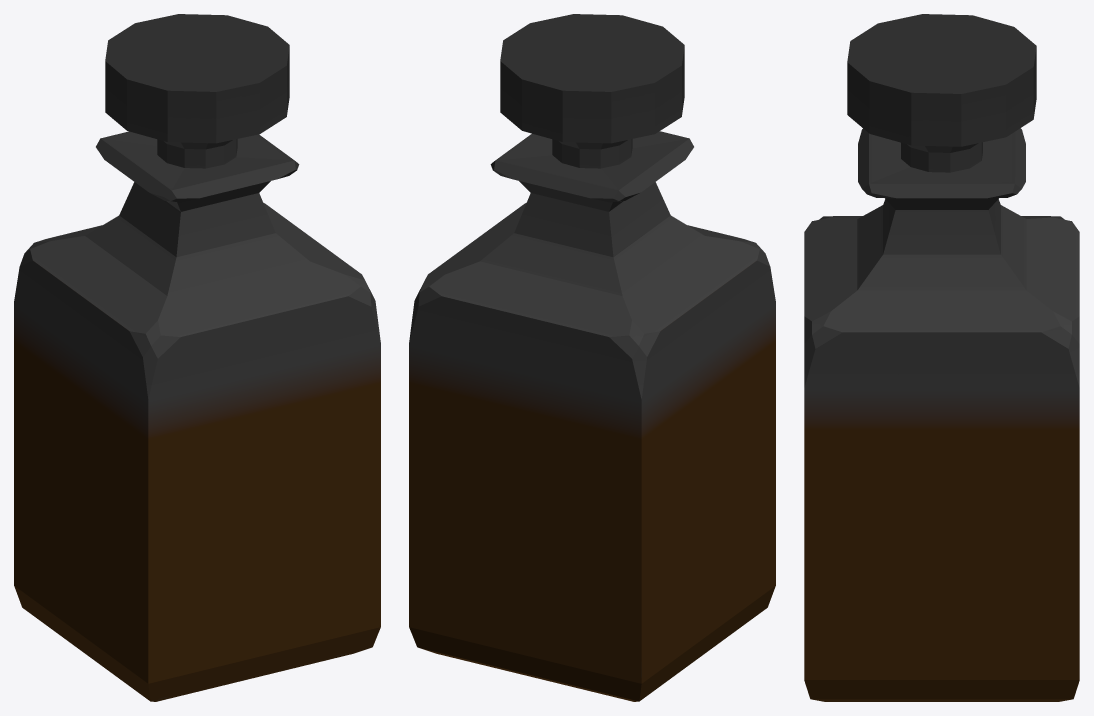
The model's file is decanter.fbx.
3 renders of one model, left to right at view 1: azimuth 30°, elevation 25°; view 2: azimuth 150°, elevation 25°; view 3: azimuth 270°, elevation 25°, orthographic. The views are drawn at different scales.
Parts seen in each view (by area): view 1: decanter_baked; view 2: decanter_baked; view 3: decanter_baked.
Part boxes in pixels (left/top/right/bottom): decanter_baked: left=14, top=14, right=380, bottom=701; decanter_baked: left=409, top=14, right=775, bottom=701; decanter_baked: left=804, top=14, right=1079, bottom=701.
Size of the model in its own units: 14.72 by 35.31 by 14.72.
Materials: 1 (1 with a texture image).
